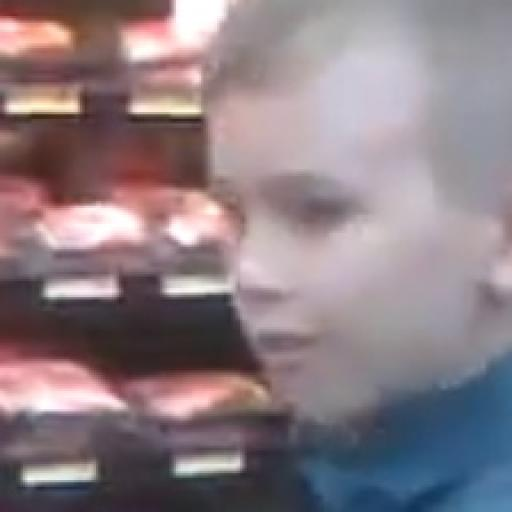Autism: (201, 27, 512, 419)
